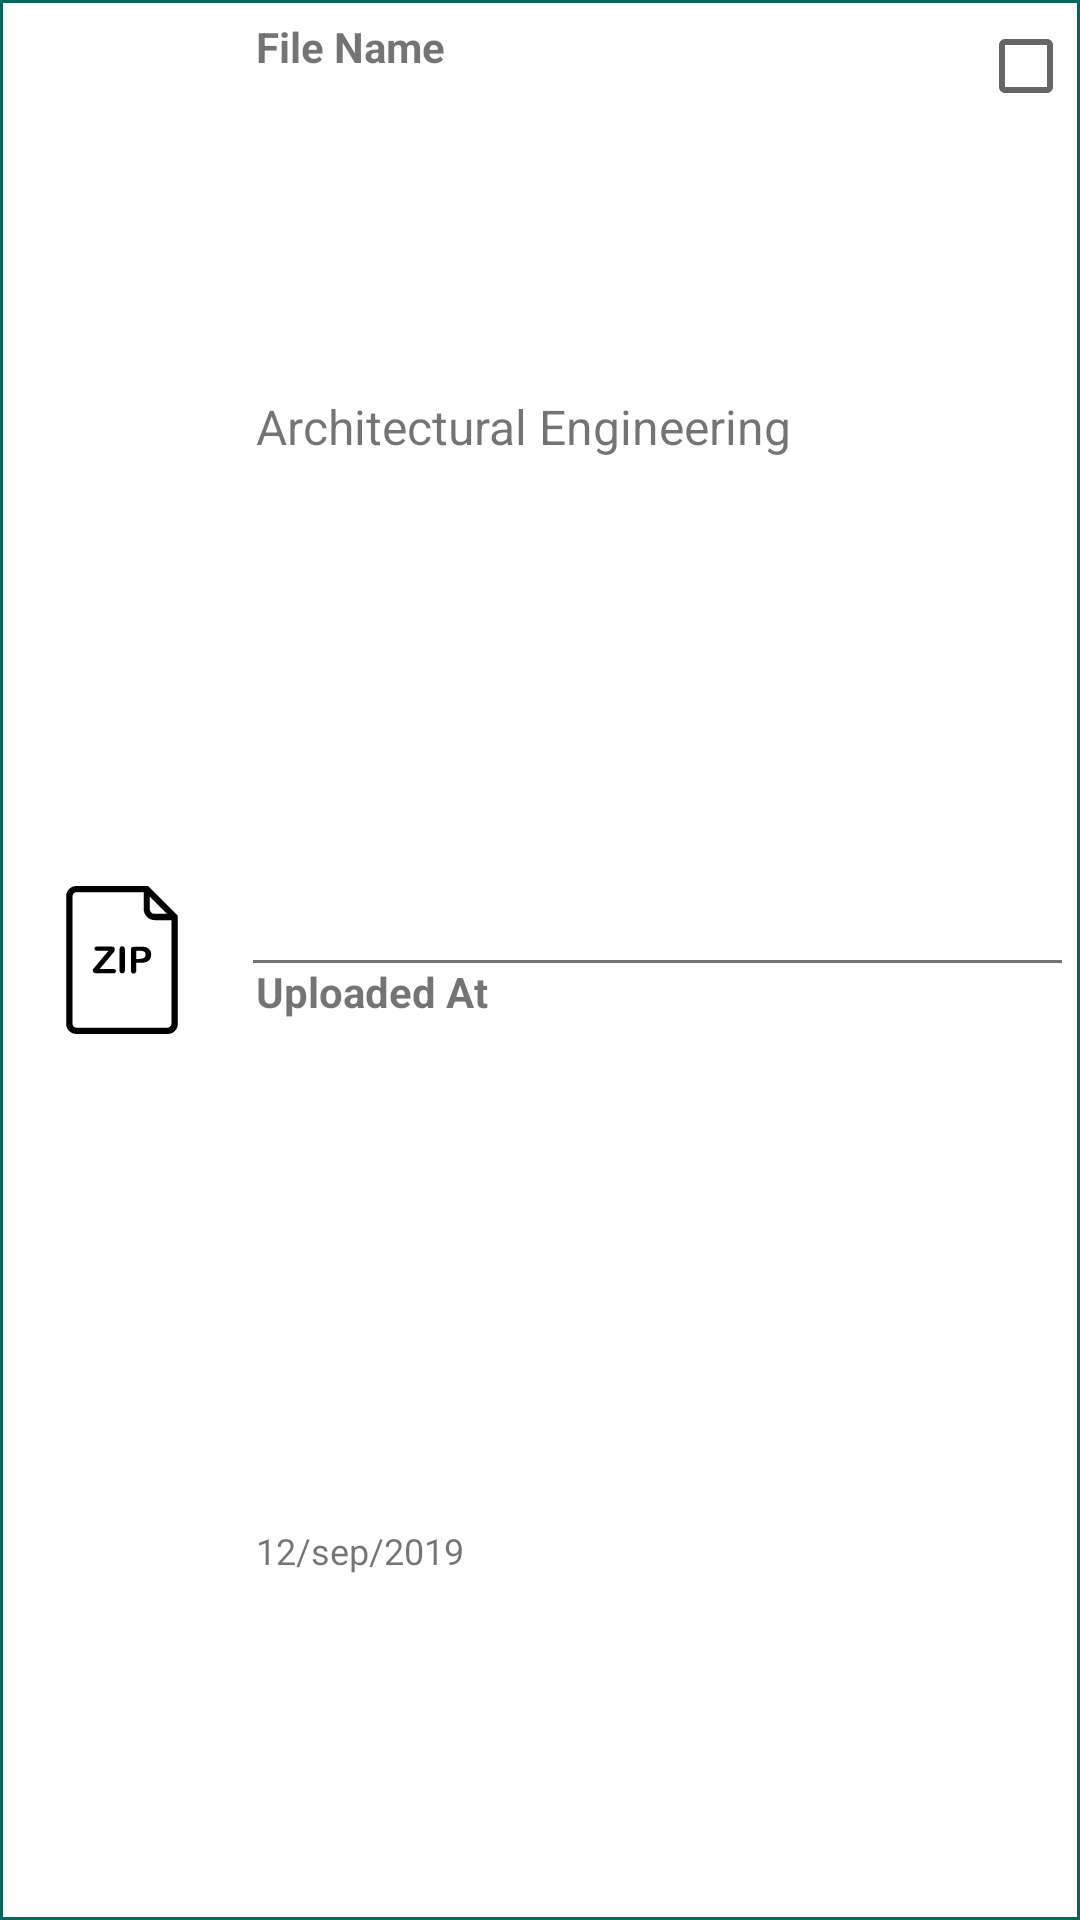

Where icons sit on this 1080w x 1920h app screen, as box=[x1, y1, x2, y2]:
document: box=[66, 886, 178, 1034]
